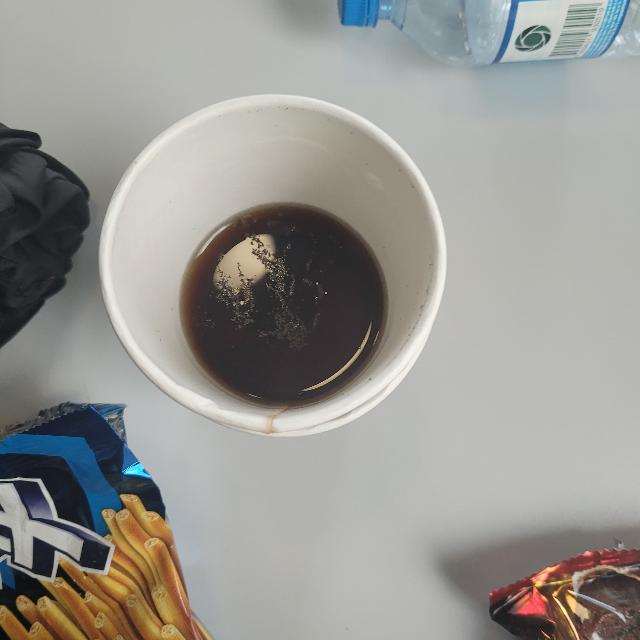Kagit: (94, 89, 467, 446)
Plastik: (0, 389, 230, 640), (321, 0, 640, 73), (488, 528, 640, 640)
